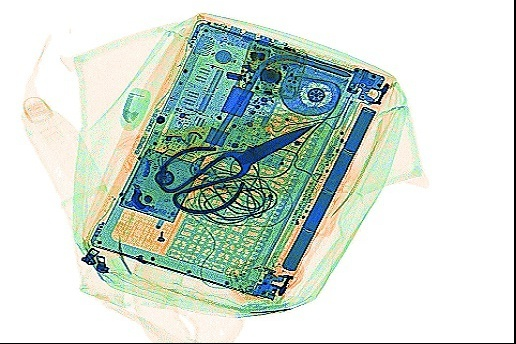scissors: (154, 122, 315, 215)
